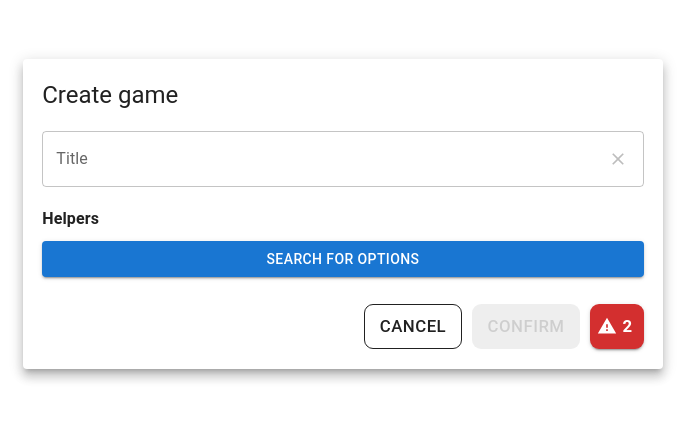
Test case: FormScreen › validation errors › revalidates live once errors are revealed
Step 1. Click the button named "Show 2 form errors" → (617, 326), box [590, 304, 644, 349]
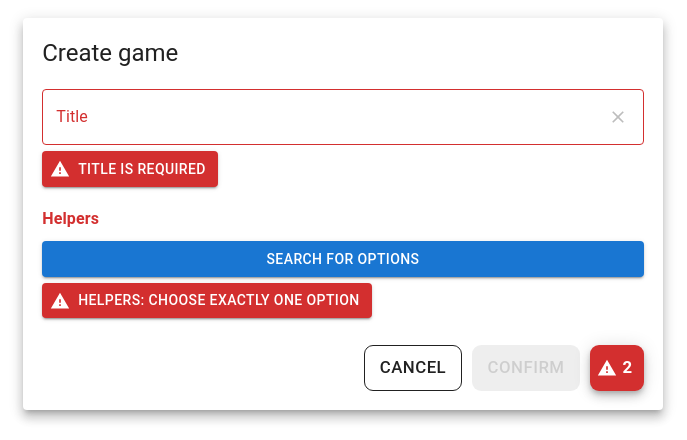
Step 2. Type "Brass" into the field labelled "Title" → (318, 117), box [42, 89, 595, 145]
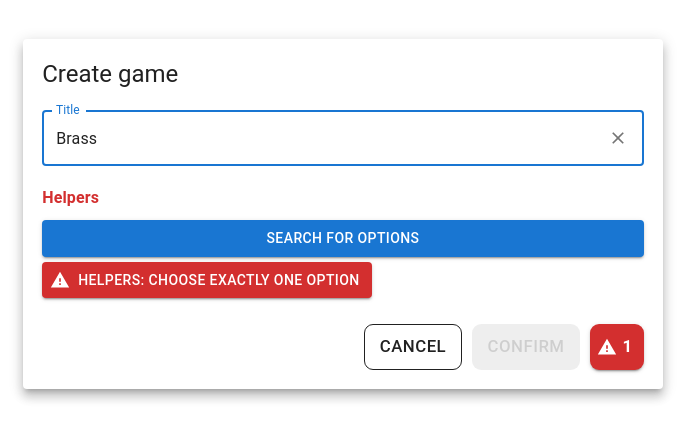
Check: the button "Confirm" is disabled, box [472, 324, 580, 370]
Check: the button "Title is required" is gone
Check: the button named "Show 1 form errors" is shown, box [590, 324, 644, 370]
